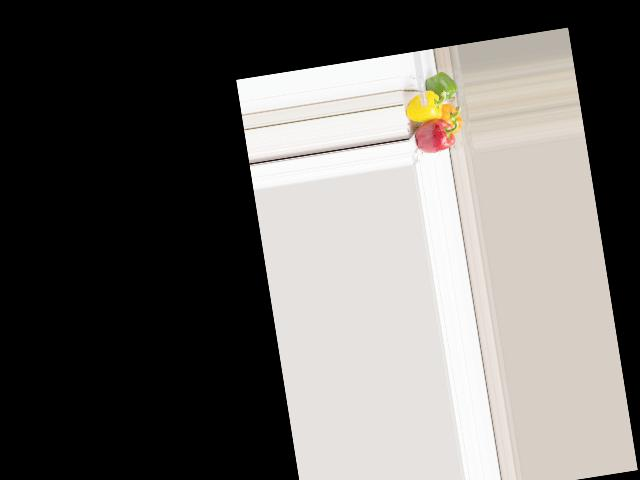bell_pepper: (437, 100, 465, 136)
